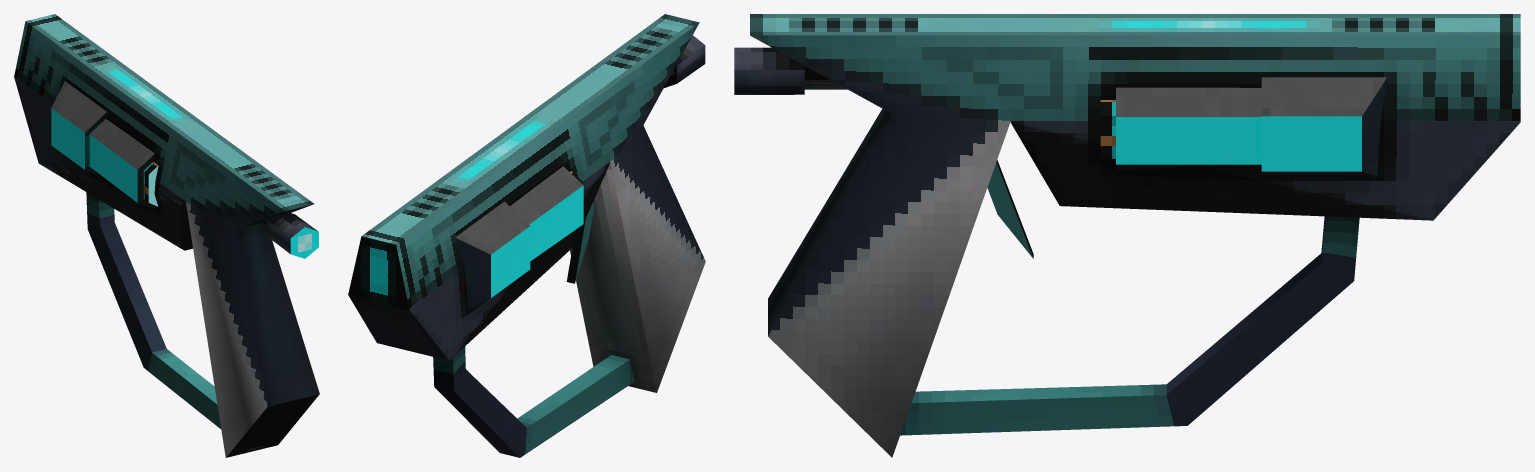
The picture shows the model from 3 angles, left to right: view 1: azimuth 30°, elevation 25°; view 2: azimuth 150°, elevation 25°; view 3: azimuth 270°, elevation 25°; orthographic projection. The views are drawn at different scales.
Visible parts, largest first — view 1: revolver.001; view 2: revolver.001; view 3: revolver.001.
Part boxes in pixels (bbox=[...]): revolver.001: bbox=[14, 14, 319, 457]; revolver.001: bbox=[348, 14, 705, 457]; revolver.001: bbox=[734, 14, 1520, 457].
Size of the model in its own units: 0.1044 by 0.328 by 0.5644.
1 material, 1 textured.
